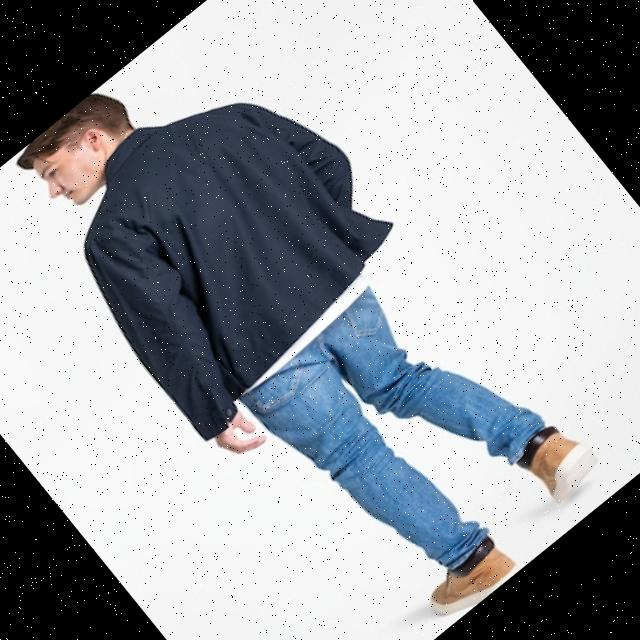Person: (0, 0, 616, 640)
